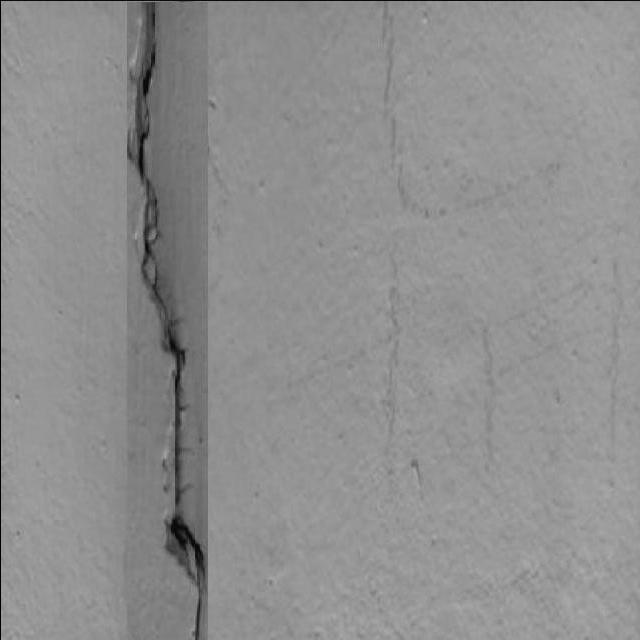Crack: (126, 2, 207, 639)
